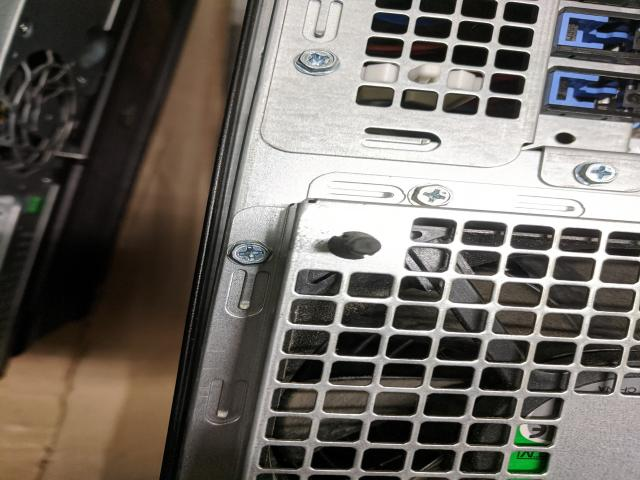CRS: (293, 46, 343, 76), (230, 241, 275, 265), (579, 161, 620, 186), (410, 184, 454, 207)
